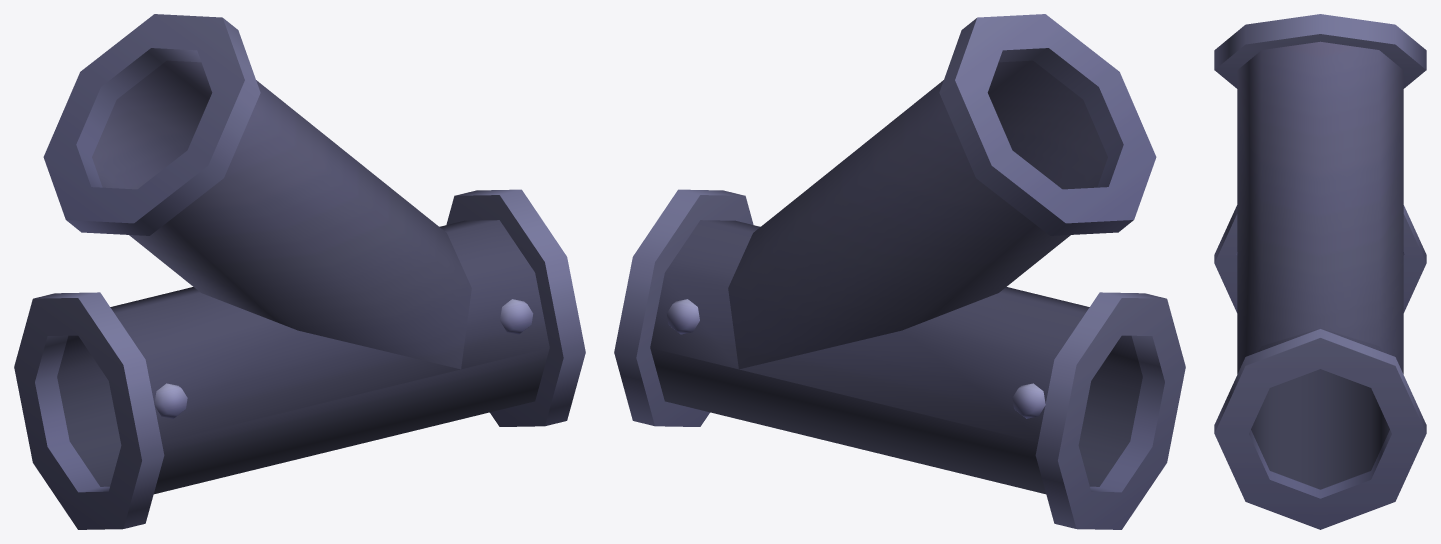
File: kenney-factory-pipe-large-junction.glb
3 views of the same model, side by side, from view 1: azimuth 30°, elevation 25°; view 2: azimuth 150°, elevation 25°; view 3: azimuth 270°, elevation 25° (orthographic). The views are drawn at different scales.
Visible parts, largest first — view 1: pipe-large-junction; view 2: pipe-large-junction; view 3: pipe-large-junction.
Part boxes in pixels (x1=…): pipe-large-junction: x1=14, y1=14, x2=585, y2=529; pipe-large-junction: x1=614, y1=14, x2=1185, y2=529; pipe-large-junction: x1=1214, y1=14, x2=1426, y2=529.
Size of the model in its own units: 2.06 by 2.06 by 1.
Materials: 1 (1 with a texture image).
